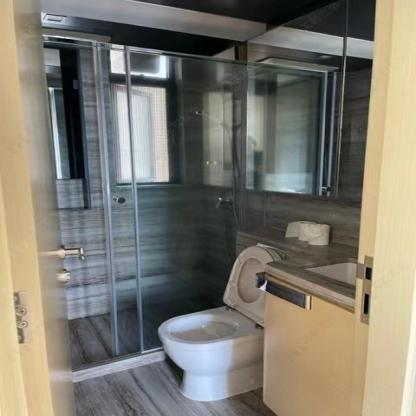Toilet: (158, 244, 282, 401)
Toilet Sink: (263, 247, 358, 314)
Water Cubicle: (42, 28, 267, 386)
